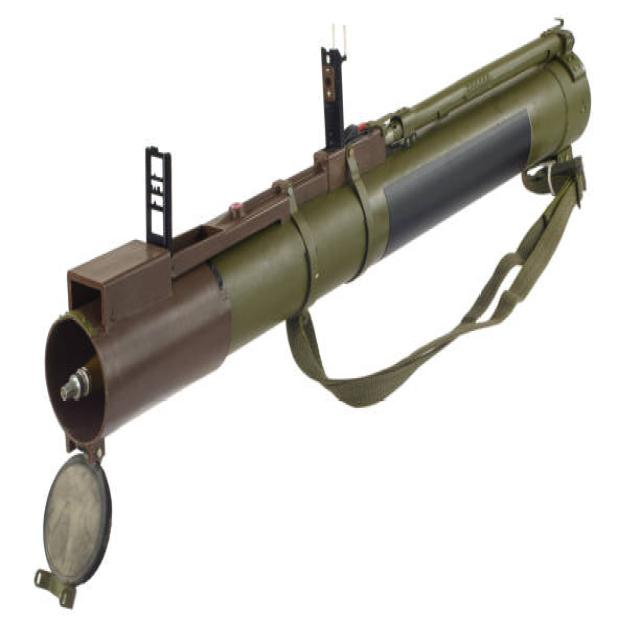bazooka: (28, 3, 597, 626)
